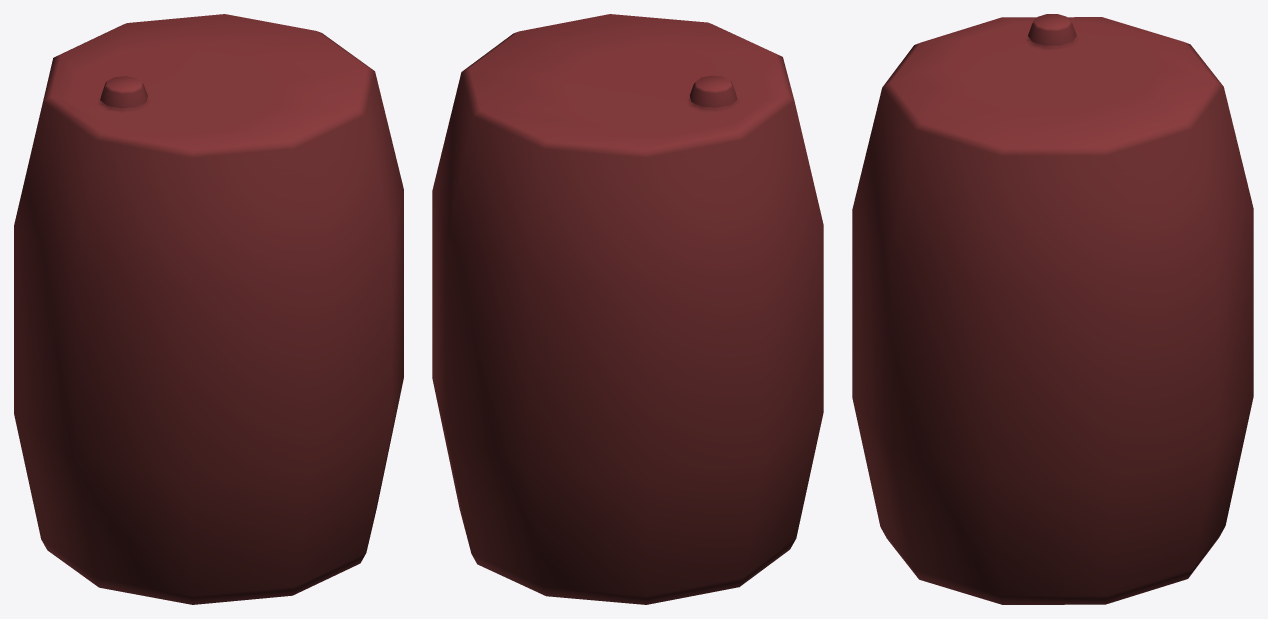
The model's file is human-containers-plastic-barrel_v1.glb.
The picture shows the model from 3 angles, left to right: view 1: azimuth 30°, elevation 25°; view 2: azimuth 150°, elevation 25°; view 3: azimuth 270°, elevation 25°; orthographic projection.
Parts seen in each view (by area): view 1: Plastic Barrel; view 2: Plastic Barrel; view 3: Plastic Barrel.
Boxes of the visible parts, left/top/right/bottom form: Plastic Barrel: left=14, top=14, right=403, bottom=604; Plastic Barrel: left=432, top=14, right=823, bottom=604; Plastic Barrel: left=852, top=14, right=1253, bottom=604.
Bounding box in the file's own units: 0.6564 × 0.9 × 0.6888.
